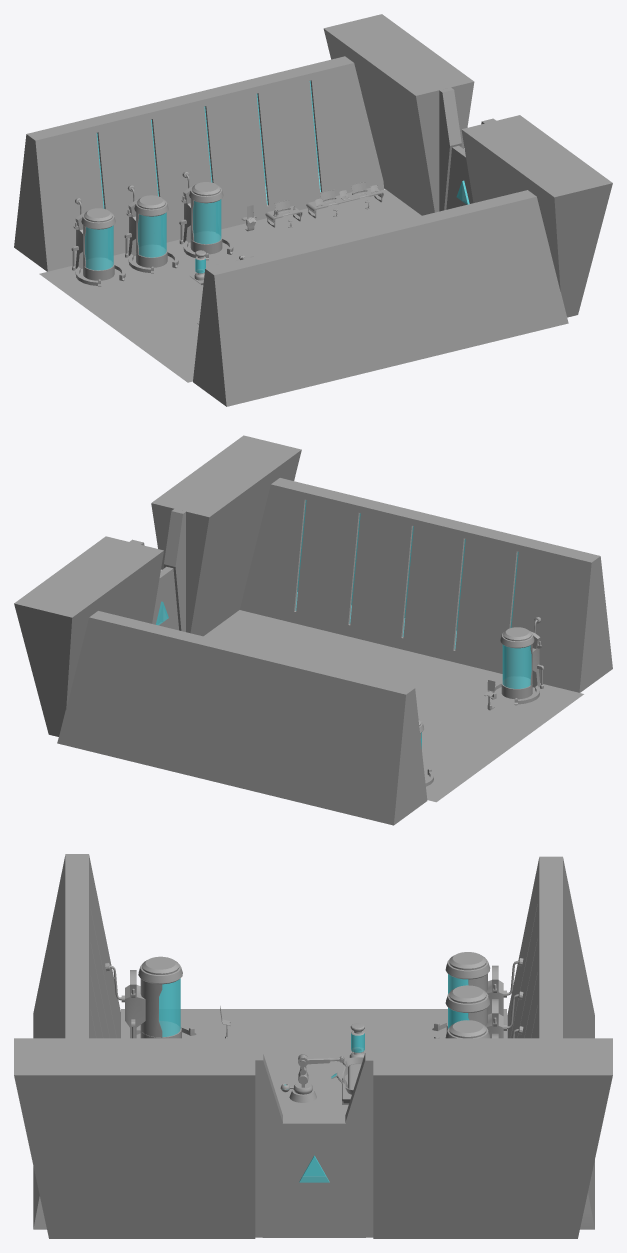
Rendered from L1_RM3_Models with UVs.fbx.
The picture shows the model from 3 angles, top to bottom: view 1: azimuth 30°, elevation 25°; view 2: azimuth 150°, elevation 25°; view 3: azimuth 270°, elevation 25°; orthographic projection. The views are drawn at different scales.
Visible parts, largest first — view 1: L1_RM3_walls_right, L1_RM3_walls_left, L1_RM3_door_left_wall3, L1_RM03_ground, L1_RM3_door_right_wall2, L1_RM3_cultivation_tanks_style06_cultivation_tanks_style06_f (×3), L1_RM3_cultivation_tanks_style06_glass (×3), L1_RM3_door_left1, L1_RM3_walls_light, L1_RM3_table_style03_table; view 2: L1_RM3_walls_left, L1_RM3_walls_right, L1_RM03_ground, L1_RM3_door_right_wall2, L1_RM3_door_left_wall3, L1_RM3_cultivation_tanks_style06_cultivation_tanks_style06_f, L1_RM3_cultivation_tanks_style06_glass, L1_RM3_door_right1, L1_RM3_walls_light; view 3: L1_RM3_door_right_wall2, L1_RM3_door_left_wall3, L1_RM03_ground, L1_RM3_walls_right, L1_RM3_walls_left, L1_RM3_cultivation_tanks_style06_cultivation_tanks_style06_f (×4), L1_RM3_door_right1, L1_RM3_door_left1, L1_RM3_dissection_table, L1_RM3_cultivation_tanks_style06_glass.
Part boxes in pixels (x1,y1,x2,y2): L1_RM3_walls_right: (193,190,568,406); L1_RM3_walls_left: (14,56,384,271); L1_RM3_door_left_wall3: (323,14,474,215); L1_RM03_ground: (39,189,421,382); L1_RM3_door_right_wall2: (461,115,612,317); L1_RM3_cultivation_tanks_style06_cultivation_tanks_style06_f (×3): (71,171,233,286); L1_RM3_cultivation_tanks_style06_glass (×3): (85,199,221,270); L1_RM3_door_left1: (446,145,468,209); L1_RM3_walls_light: (96,80,320,208); L1_RM3_table_style03_table: (306,188,383,218); L1_RM3_walls_left: (57,611,427,825); L1_RM3_walls_right: (239,478,612,692); L1_RM03_ground: (203,610,583,802); L1_RM3_door_right_wall2: (151,435,301,636); L1_RM3_door_left_wall3: (14,536,163,736); L1_RM3_cultivation_tanks_style06_cultivation_tanks_style06_f: (490,617,543,705); L1_RM3_cultivation_tanks_style06_glass: (502,644,531,688); L1_RM3_door_right1: (156,566,179,630); L1_RM3_walls_light: (295,500,518,649); L1_RM3_door_right_wall2: (14,1038,282,1238); L1_RM3_door_left_wall3: (345,1038,612,1238); L1_RM03_ground: (121,1009,506,1176); L1_RM3_walls_right: (33,854,120,1229); L1_RM3_walls_left: (507,856,594,1229); L1_RM3_cultivation_tanks_style06_cultivation_tanks_style06_f (×4): (105,952,523,1038); L1_RM3_door_right1: (263,1119,314,1237); L1_RM3_door_left1: (314,1119,365,1237); L1_RM3_dissection_table: (331,1023,364,1104); L1_RM3_cultivation_tanks_style06_glass: (159,978,180,1037).
Bounding box in the file's own units: 3279 × 1128 × 3416.
